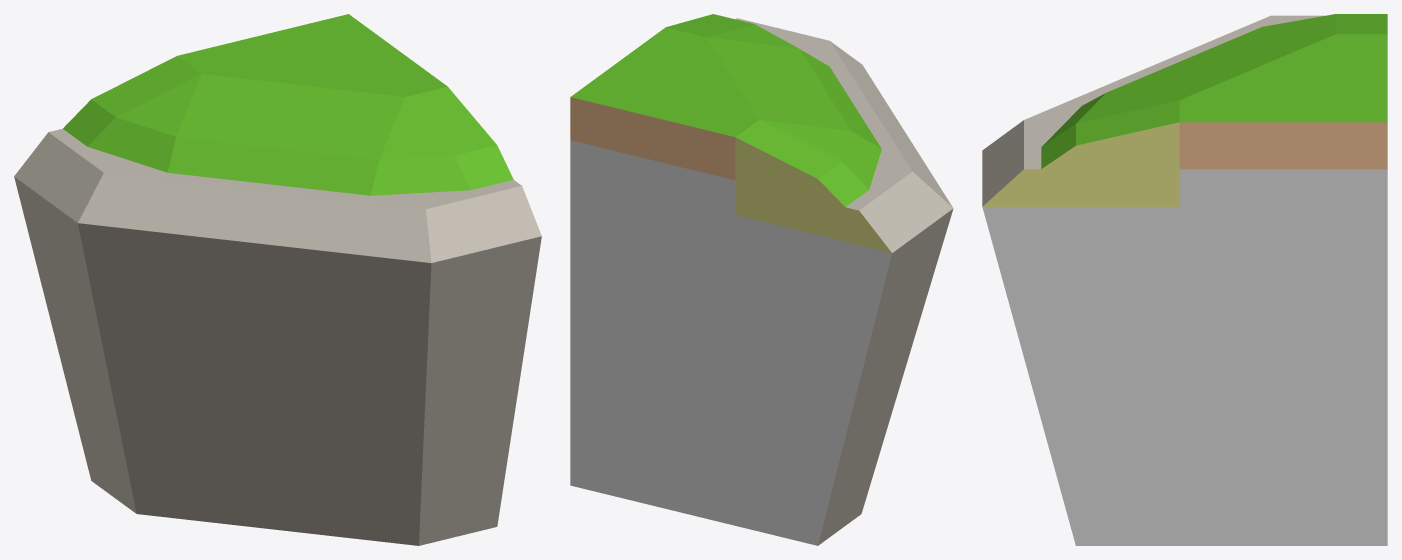
File: Basic_Curve_Outer_2x2_Wide_Top.glb
The picture shows the model from 3 angles, left to right: view 1: azimuth 30°, elevation 25°; view 2: azimuth 150°, elevation 25°; view 3: azimuth 270°, elevation 25°; orthographic projection. The views are drawn at different scales.
Visible parts, largest first — view 1: Basic_Curve_Outer_2x2_Wide_Top; view 2: Basic_Curve_Outer_2x2_Wide_Top; view 3: Basic_Curve_Outer_2x2_Wide_Top.
Boxes of the visible parts, x1,y1,x2,y2 form: Basic_Curve_Outer_2x2_Wide_Top: (14,14,541,545); Basic_Curve_Outer_2x2_Wide_Top: (570,14,953,545); Basic_Curve_Outer_2x2_Wide_Top: (982,14,1387,545).
Size of the model in its own units: 195 by 225 by 195.
